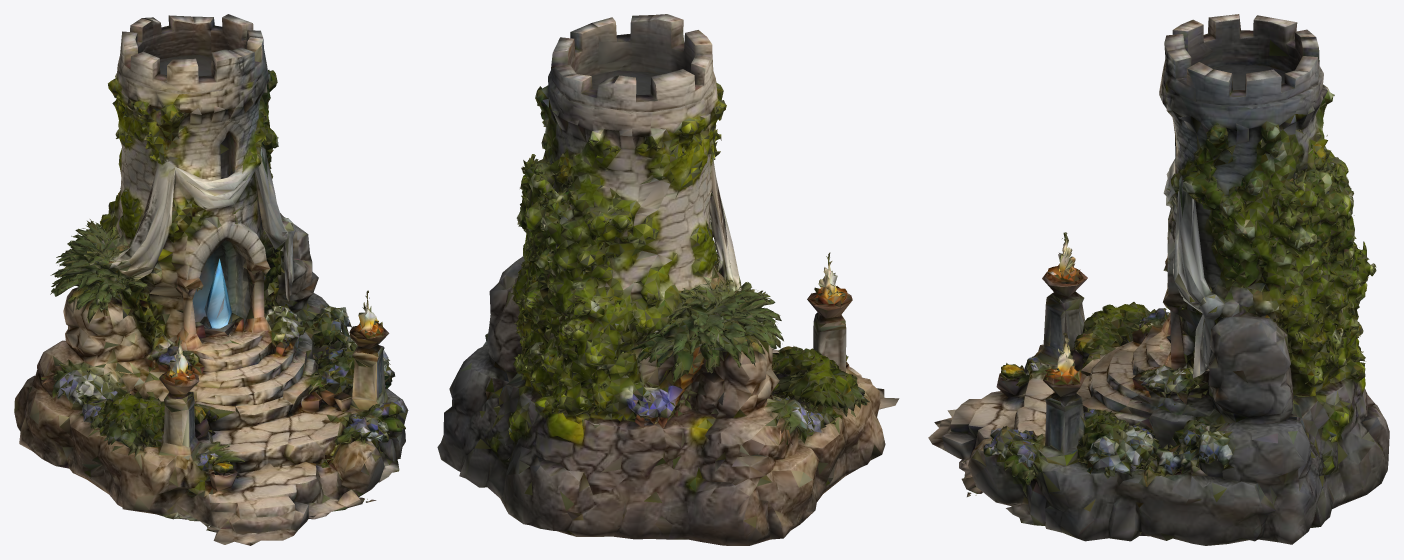
Rendered from Crystal_Tower_of_the_.glb.
3 renders of one model, left to right at view 1: azimuth 30°, elevation 25°; view 2: azimuth 150°, elevation 25°; view 3: azimuth 270°, elevation 25°, orthographic. The views are drawn at different scales.
Visible parts, largest first — view 1: Crystal_Tower_of_the_; view 2: Crystal_Tower_of_the_; view 3: Crystal_Tower_of_the_.
Part boxes in pixels (x1,y1,x2,y2): Crystal_Tower_of_the_: (14,14,408,545); Crystal_Tower_of_the_: (437,14,899,545); Crystal_Tower_of_the_: (928,14,1389,545).
Bounding box in the file's own units: 1.69 × 2 × 1.95.
1 material, 1 textured.
